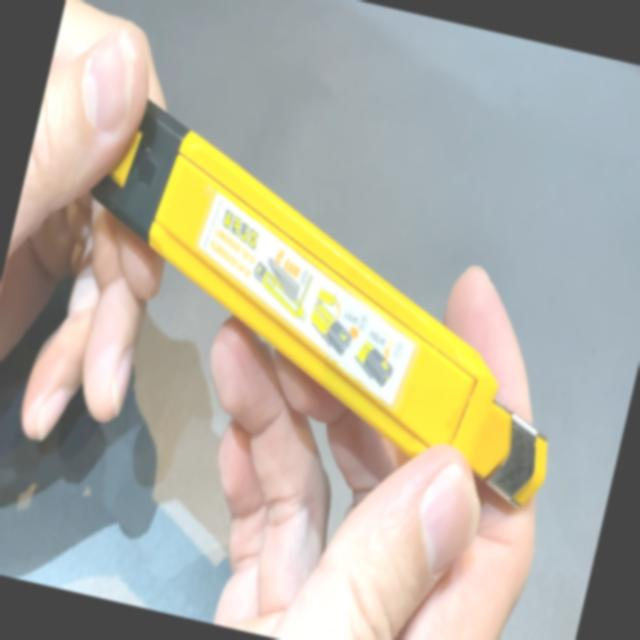cutter: (0, 0, 604, 640)
